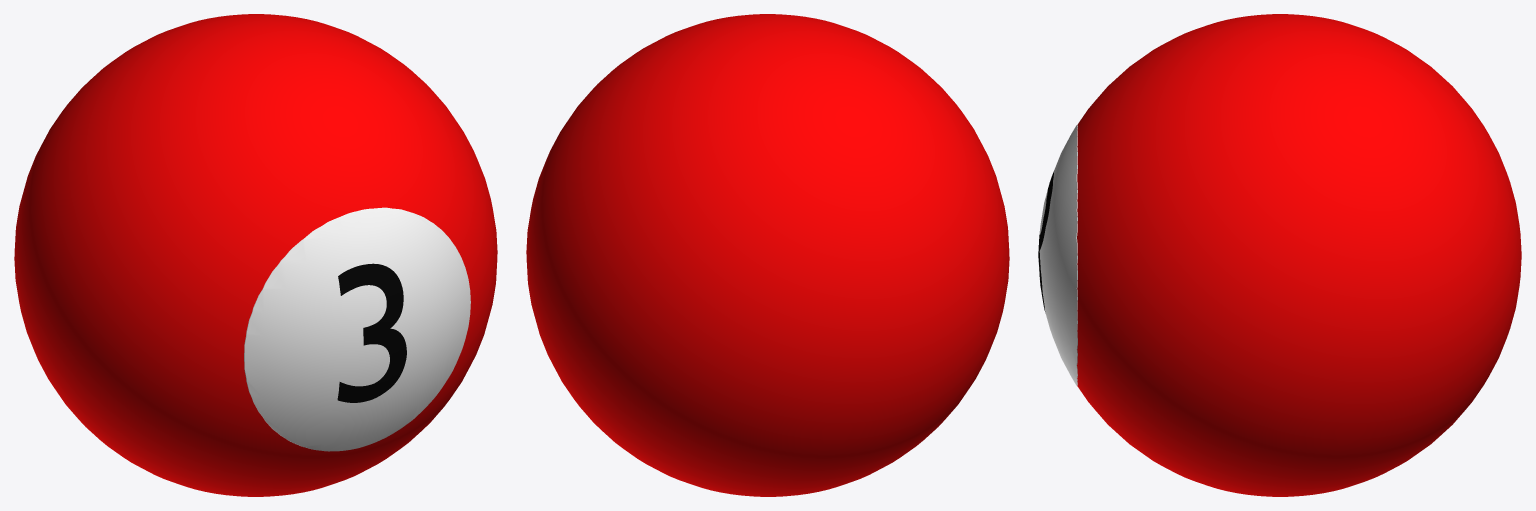
The model's file is Ball3.fbx.
The picture shows the model from 3 angles, left to right: view 1: azimuth 30°, elevation 25°; view 2: azimuth 150°, elevation 25°; view 3: azimuth 270°, elevation 25°; orthographic projection.
Parts seen in each view (by area): view 1: Ball3; view 2: Ball3; view 3: Ball3.
Part boxes in pixels (x1=…): Ball3: x1=14, y1=14, x2=497, y2=496; Ball3: x1=526, y1=14, x2=1009, y2=496; Ball3: x1=1038, y1=14, x2=1521, y2=496.
Bounding box in the file's own units: 5.7 × 5.7 × 5.7.
